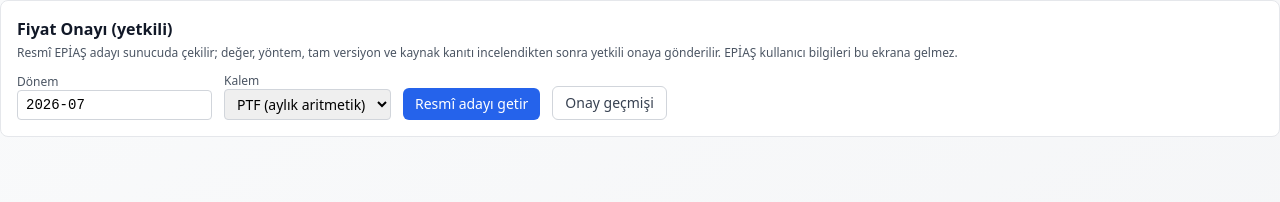
Test: FiyatOnayPaneli — kullanıcı akışı › onay tabloları yoksa geçmiş bunu açıkça söyler
Click the button "Onay geçmişi" at (610, 103), box [552,86,667,120]
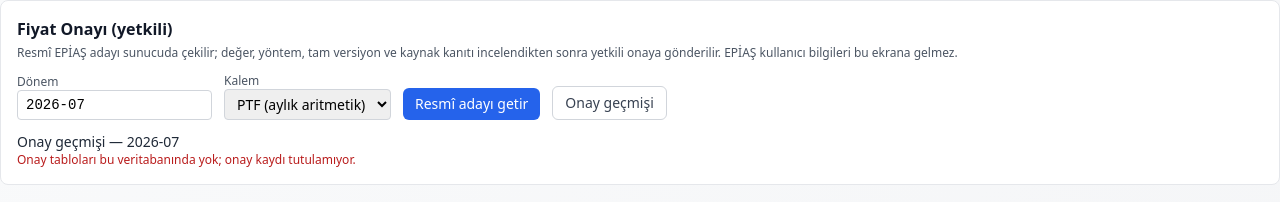
Now the element with test id "onay-gecmisi" shows "Onay tabloları bu veritabanında yok", box [17,151,356,168]
